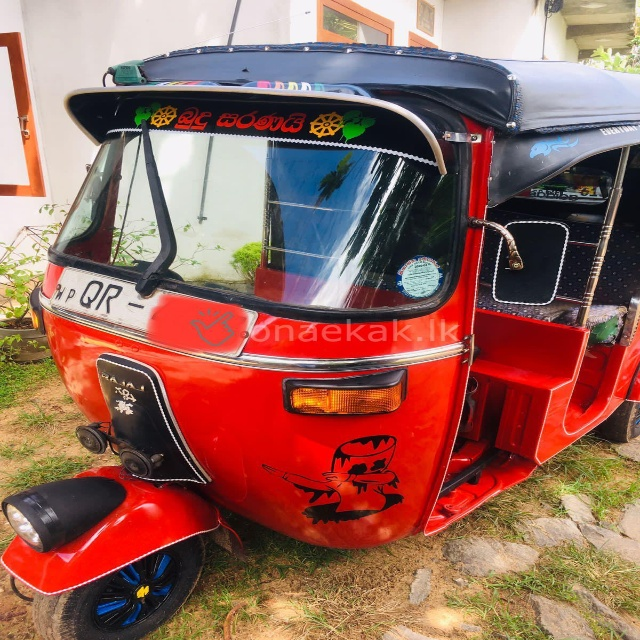Motorcycle: (1, 42, 640, 640)
